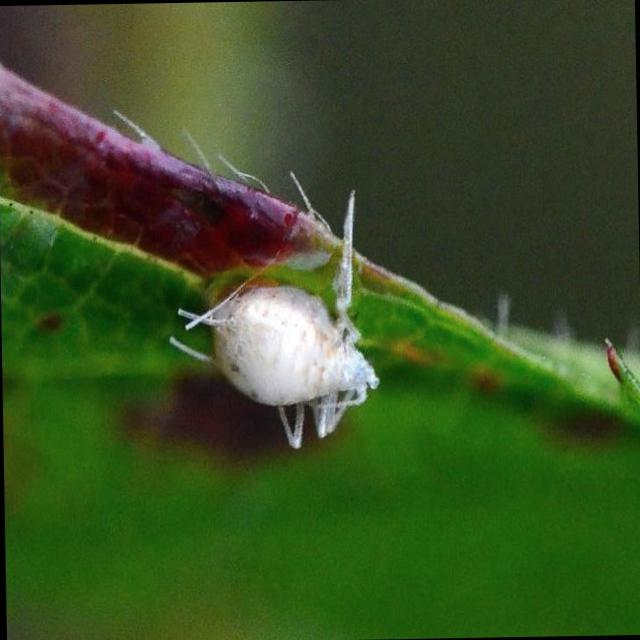aphid: (182, 252, 384, 436)
